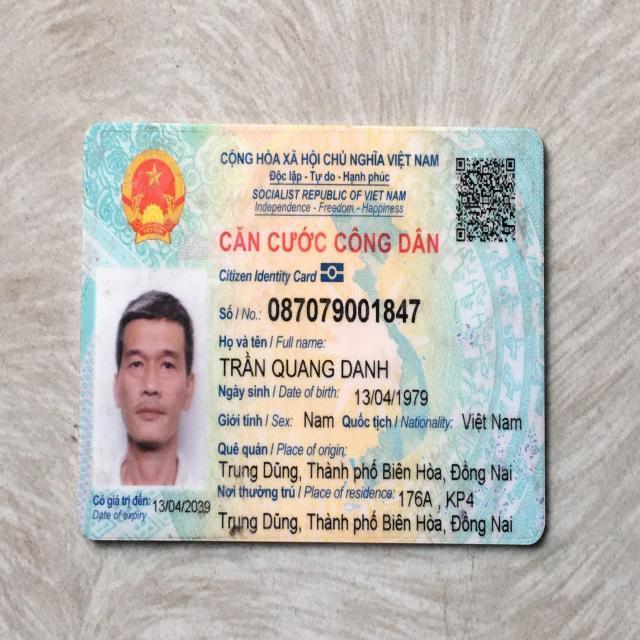current_place: (214, 508, 513, 541), (396, 484, 477, 509)
dob: (354, 383, 429, 410)
expire_date: (152, 496, 211, 516)
gender: (306, 406, 336, 433)
id: (265, 288, 425, 325)
name: (216, 347, 391, 382)
nationality: (455, 410, 524, 433)
origin_place: (215, 455, 516, 488)
